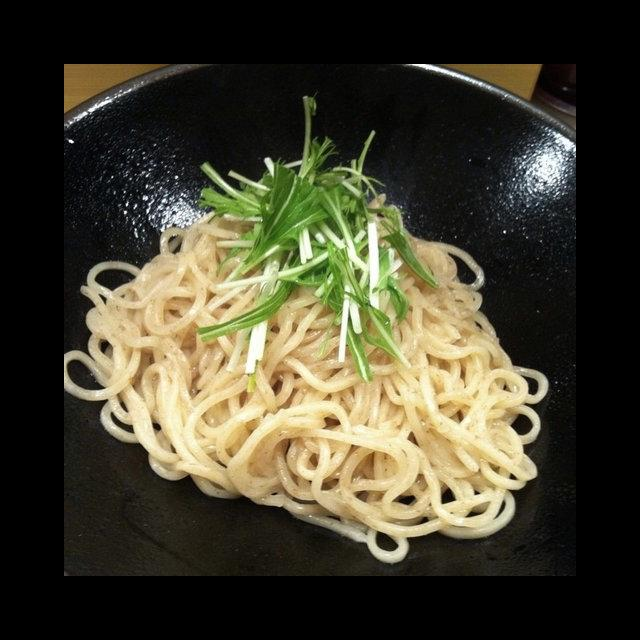noodles: (64, 175, 548, 564)
